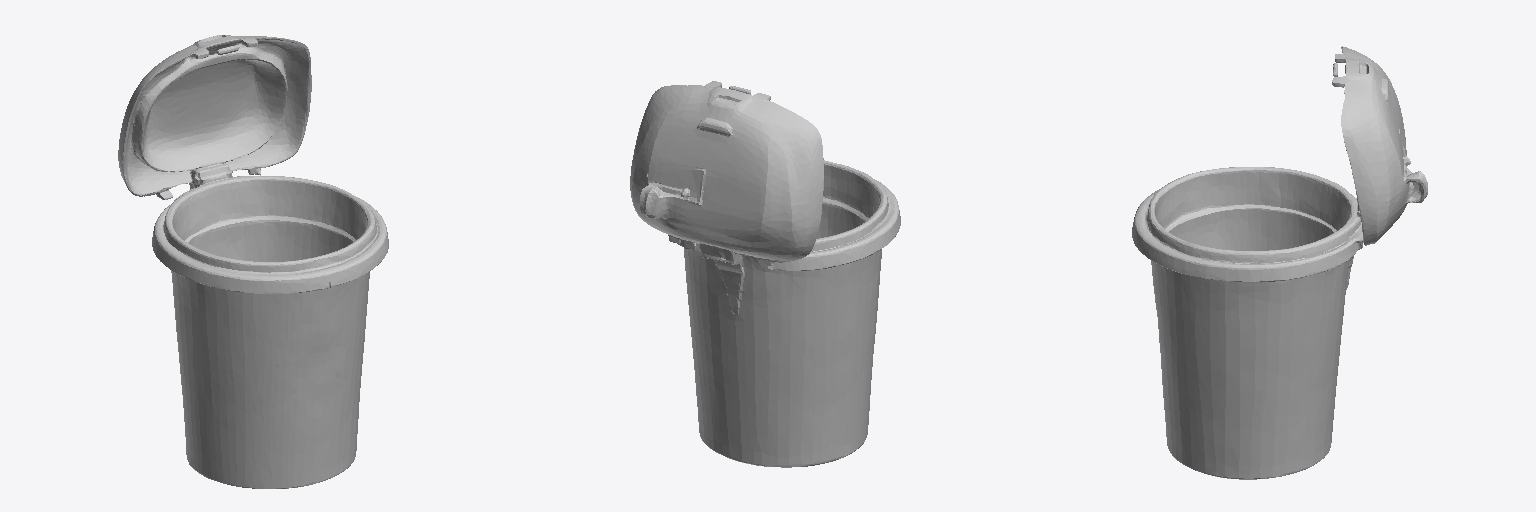
File: trash_can.obj
3 renders of one model, left to right at view 1: azimuth 30°, elevation 25°; view 2: azimuth 150°, elevation 25°; view 3: azimuth 270°, elevation 25°, orthographic.
Parts seen in each view (by area): view 1: obj1; view 2: obj1; view 3: obj1.
Part boxes in pixels (x1,y1,x2,y2): obj1: (118, 35, 388, 488); obj1: (630, 81, 900, 467); obj1: (1132, 46, 1427, 479).
Bounding box in the file's own units: 0.5656 × 1 × 0.7095.